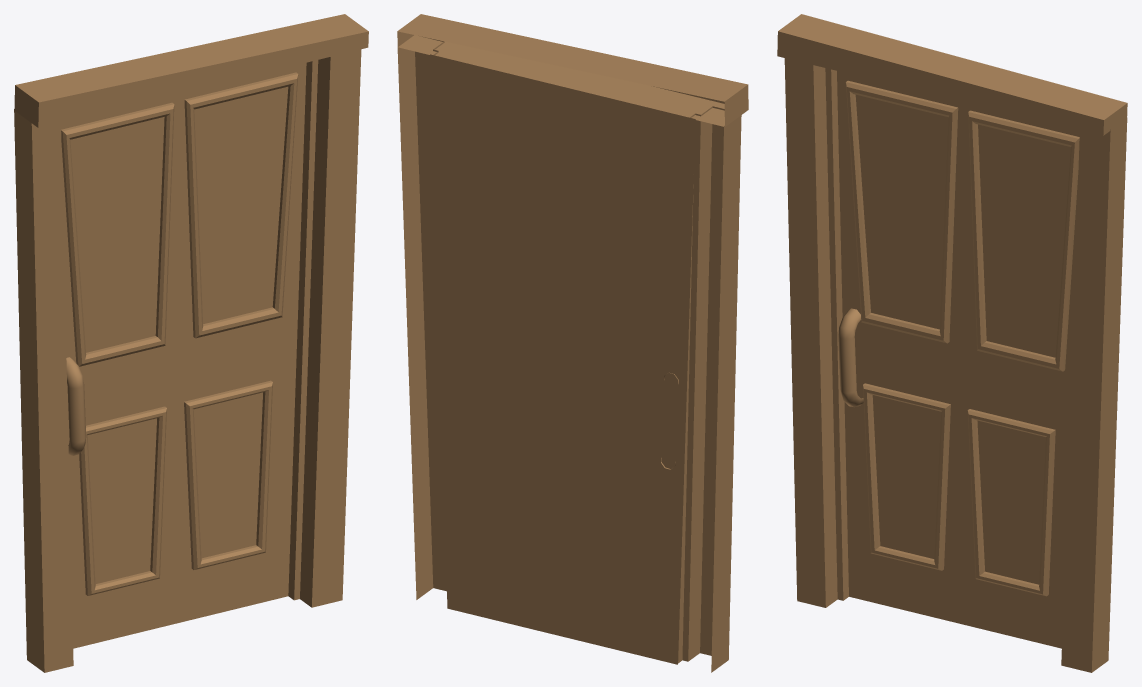
File: DOOR_SINGLE_WOOD.fbx
3 renders of one model, left to right at view 1: azimuth 30°, elevation 25°; view 2: azimuth 150°, elevation 25°; view 3: azimuth 330°, elevation 25°, orthographic.
Parts seen in each view (by area): view 1: DOOR_SINGLE_WOOD_A; view 2: DOOR_SINGLE_WOOD_A; view 3: DOOR_SINGLE_WOOD_A.
Part boxes in pixels (left/top/right/bottom): DOOR_SINGLE_WOOD_A: left=14, top=14, right=368, bottom=672; DOOR_SINGLE_WOOD_A: left=397, top=14, right=748, bottom=672; DOOR_SINGLE_WOOD_A: left=777, top=14, right=1127, bottom=672.
Bounding box in the file's own units: 125 × 209 × 16.44.
